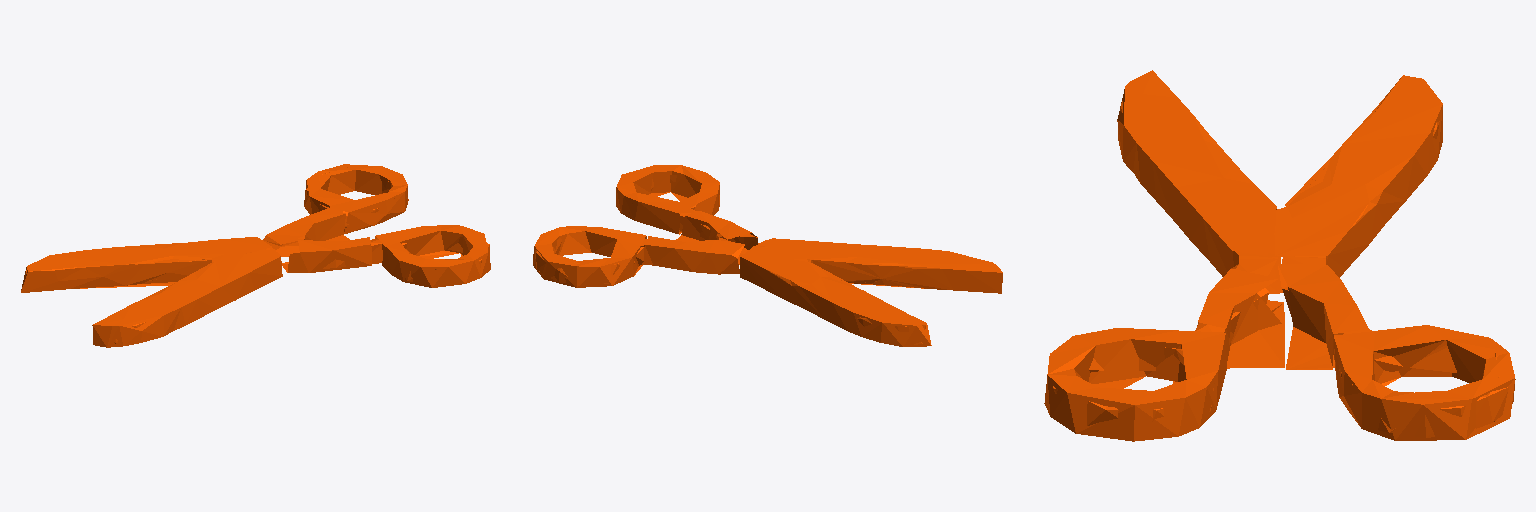
URDF robot description (Scissors_10516):
<?xml version="1.0" ?>
<robot name="Scissors_10516">
   <material name="obj_color">
      <color rgba="1.0 0.423529411765 0.0392156862745 1.0"/>
   </material>
   <link name="top">
      <inertial>
         <origin rpy="0.0007290748505807895 0.001128255462724778 0.001831284852403263" xyz="0.09070259938688004 0.001245956089183822 -0.0004370472379270868"/>
         <mass value="0.4410009944439067"/>
         <inertia ixx="0.001128251857213775" ixy="1.215313711594188e-06" ixz="2.578524489529882e-07" iyy="0.0007290785506649579" iyz="-9.61658069717673e-10" izz="0.001831284757830098"/>
      </inertial>
      <visual>
         <origin rpy="0 0 0" xyz="0 0 0"/>
         <geometry>
            <mesh filename="top_watertight_tiny.stl" scale="1 1 1"/>
         </geometry>
         <material name="obj_color"/>
      </visual>
      <collision>
         <origin rpy="0 0 0" xyz="0 0 0"/>
         <geometry>
            <mesh filename="top_watertight_tiny.obj" scale="1 1 1"/>
         </geometry>
      </collision>
   </link>
   <link name="bottom">
      <inertial>
         <origin rpy="0.0004495642277426905 0.00101895422666938 0.0014462621794254" xyz="-0.1145317403680317 0.001285642091111044 -0.0004541881662210675"/>
         <mass value="0.3774425516735768"/>
         <inertia ixx="0.0004496072794340988" ixy="-4.943948645257232e-06" ixz="3.465251703244256e-07" iyy="0.00101891129863886" iyz="3.857157378010163e-08" izz="0.00144626205576451"/>
      </inertial>
      <visual>
         <origin rpy="0 0 0" xyz="0 0 0"/>
         <geometry>
            <mesh filename="bottom_watertight_tiny.stl" scale="1 1 1"/>
         </geometry>
         <material name="obj_color"/>
      </visual>
      <collision>
         <origin rpy="0 0 0" xyz="0 0 0"/>
         <geometry>
            <mesh filename="bottom_watertight_tiny.obj" scale="1 1 1"/>
         </geometry>
      </collision>
   </link>
   <joint name="rotation" type="revolute">
      <origin xyz="0 0 0"/>
      <axis xyz="0 0 -1"/>
      <parent link="bottom"/>
      <child link="top"/>
      <dynamics damping="1.0" friction="1.0"/>
      <limit effort="0.1" velocity="0.1" lower="0" upper="0.001"/>
   </joint>
</robot>

--- Render facts (derived) ---
3 views of the same robot in one strip: view 1: azimuth 30°, elevation 25°; view 2: azimuth 150°, elevation 25°; view 3: azimuth 270°, elevation 25° (orthographic).
Robot: Scissors_10516 — 2 links, 1 joints (1 revolute); root link bottom; default pose: all joints at 0.
Visible links, largest first — view 1: bottom, top; view 2: bottom, top; view 3: top, bottom.
Boxes of the visible links, x1,y1,x2,y2 form: bottom: [21, 237, 282, 347]; top: [263, 164, 490, 287]; bottom: [740, 238, 1002, 346]; top: [533, 165, 757, 287]; top: [1044, 264, 1515, 441]; bottom: [1117, 70, 1442, 293].
Size in the robot's own frame: 0.3526 by 0.2092 by 0.019 metres.
2 mesh visuals loaded from 2 distinct referenced files (2 binary STL).